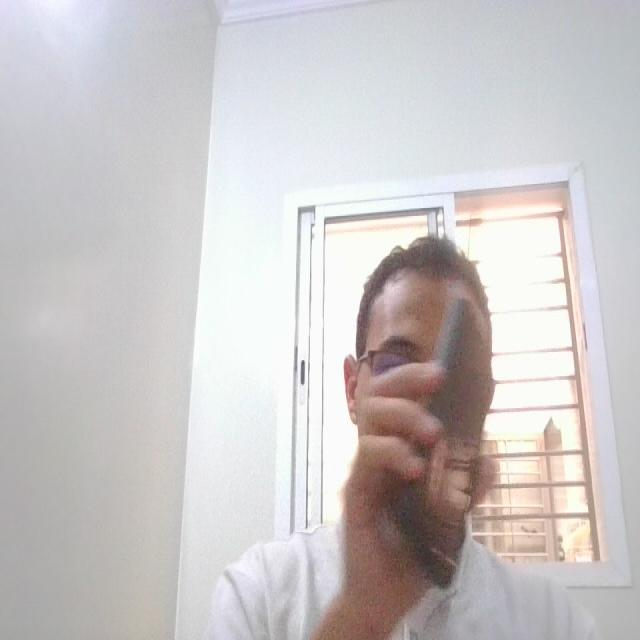phone: (392, 280, 502, 596)
